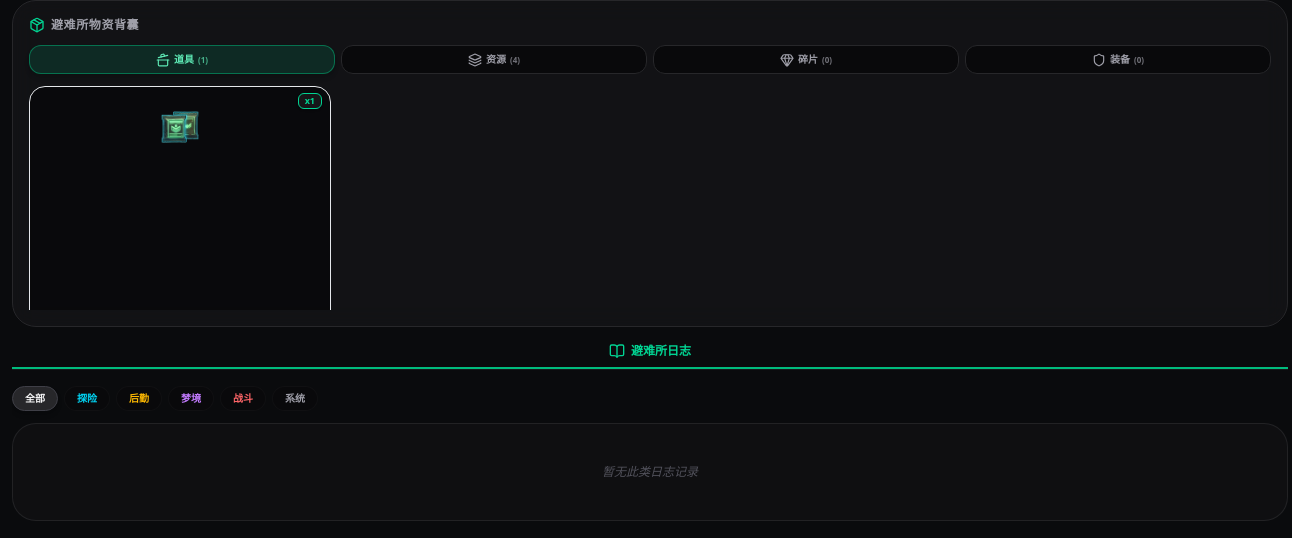
LogTab Component (物品四分类：道具/资源/碎片/装备) › files scene devices (turret/battery/counter/lens) under 资源, not 道具 (ADR-0016)
Check: the text "防御炮塔" is not shown
// 切到资源 tab：4 个装置全部可见
Step 1. Click the button "资源 (4)" → (494, 60), box [341,45,647,74]
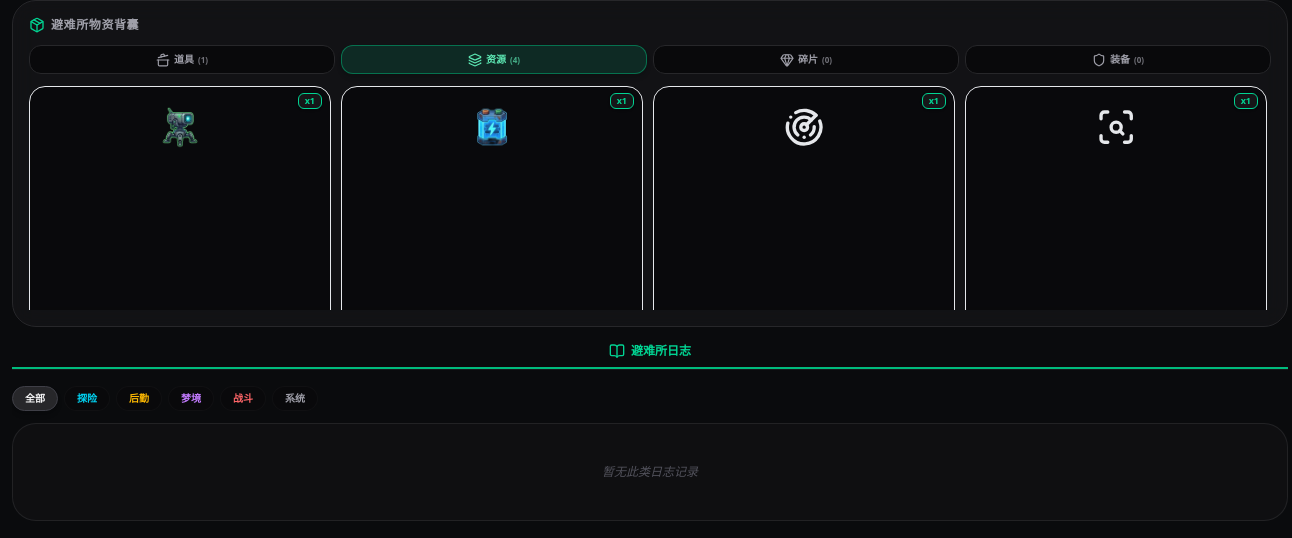
Check: the picture "压缩口粮" is gone
